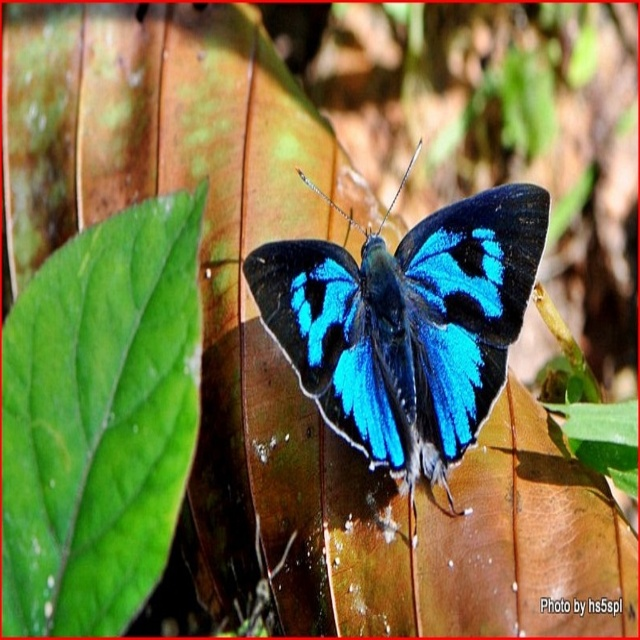Butterfly: (240, 127, 561, 530)
